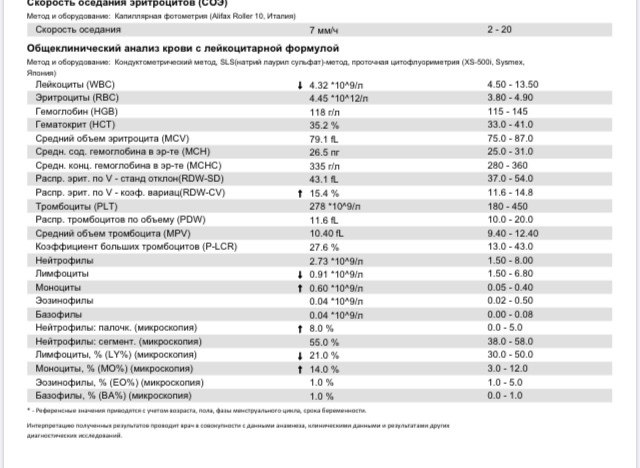column: (34, 78, 237, 400), (308, 78, 368, 400), (486, 78, 539, 400), (35, 23, 121, 34), (309, 23, 338, 34), (487, 23, 512, 34)
